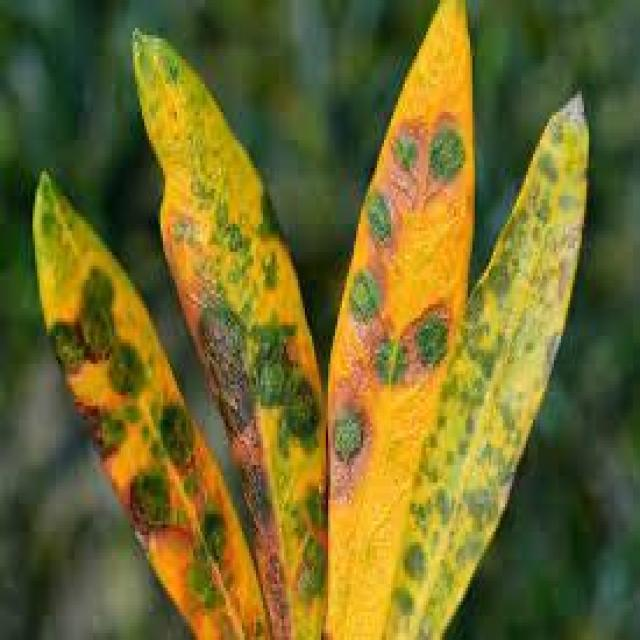OlivePeacockSpot: (134, 28, 323, 636), (386, 94, 586, 636), (35, 172, 268, 636), (326, 0, 466, 637)
